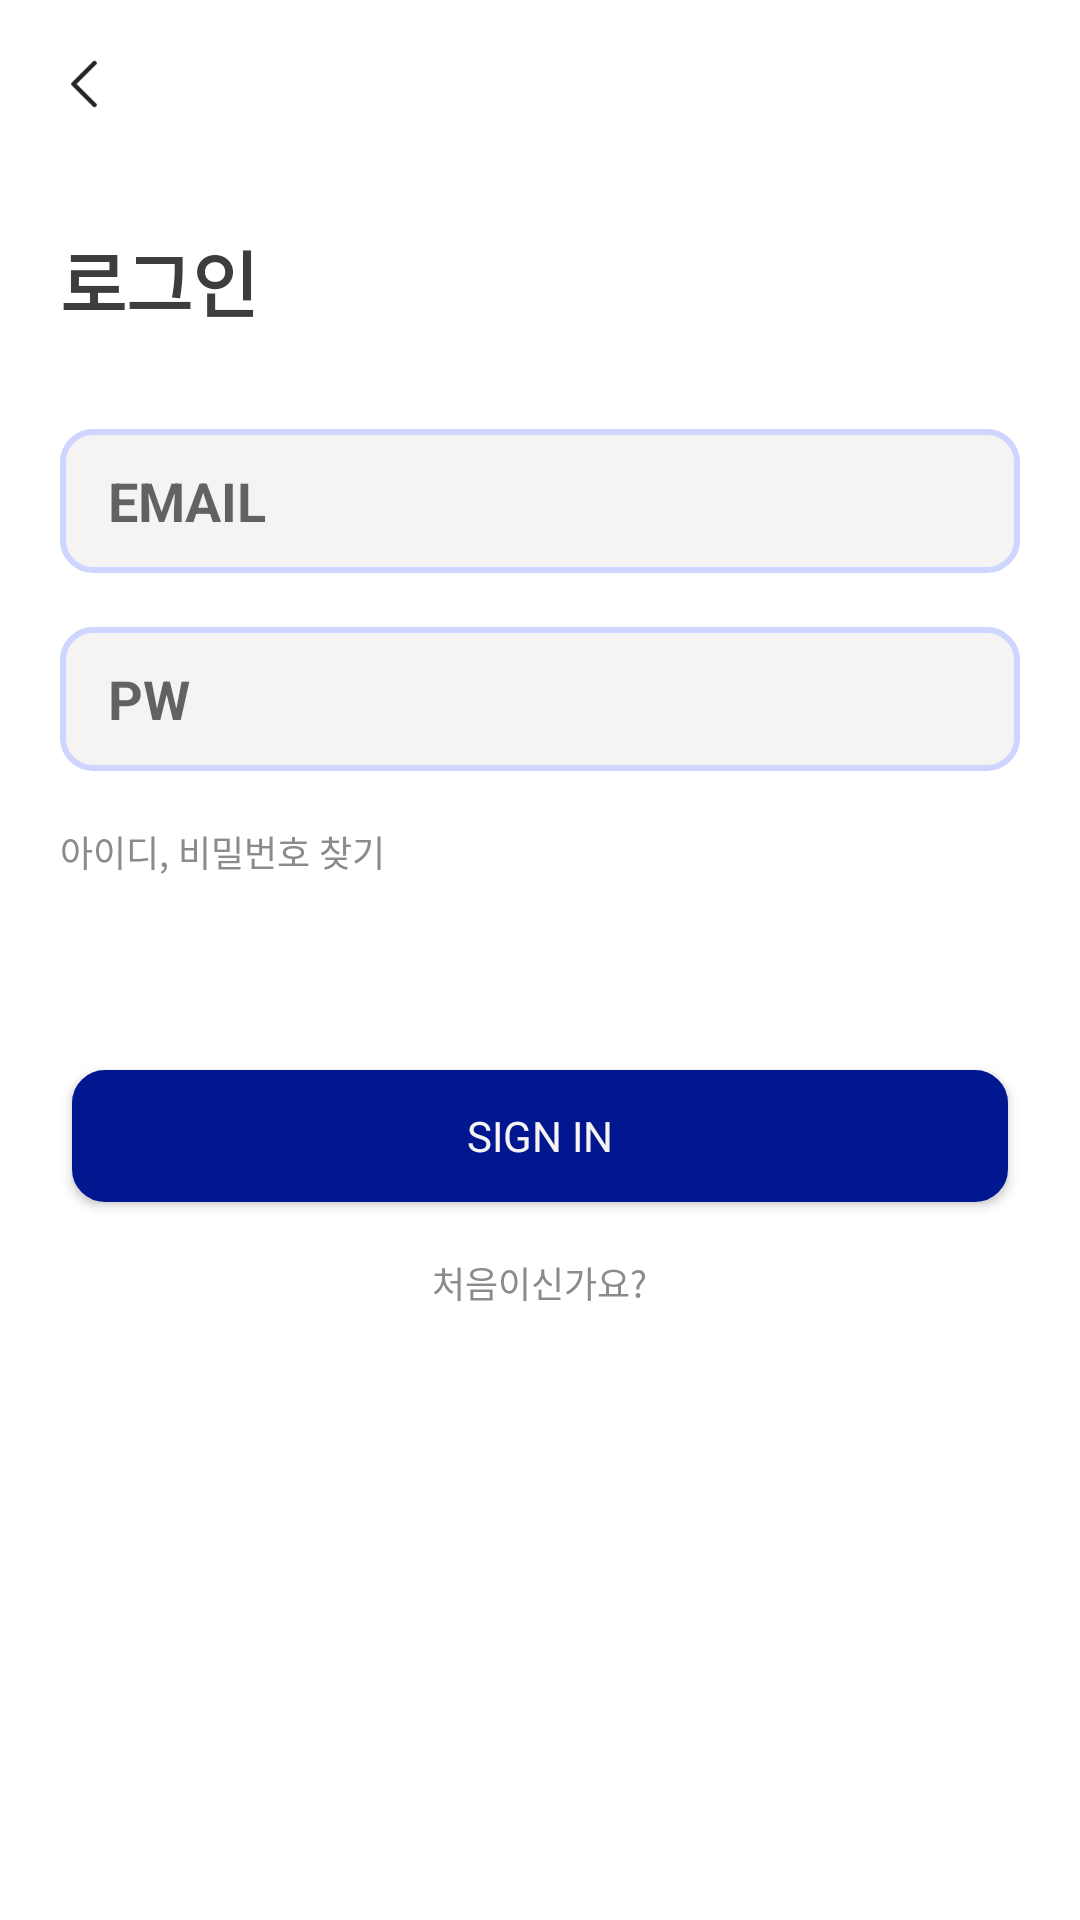

Point at icon controls on the screen. Image size 1080*1920, points as point (x, y).
arrow: point (84, 84)
